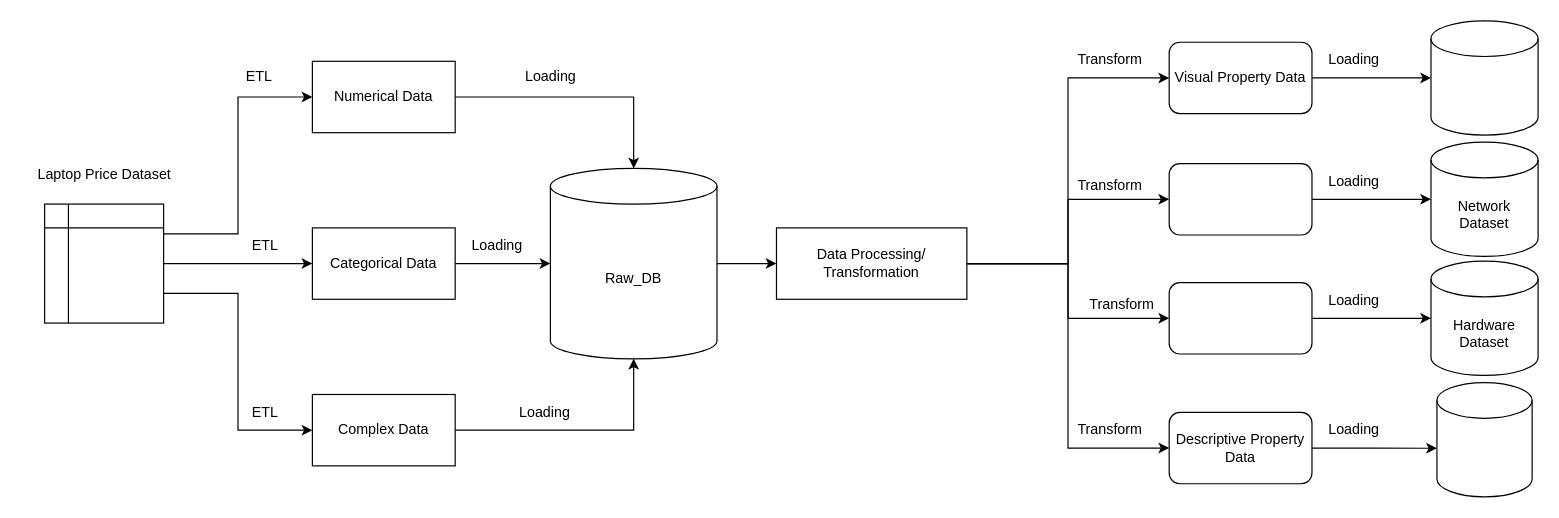
Image size: 1559x518. Some labels were removed from this diagram. Each missing label, with the centre of its shape:
Descriptive Dataset: the point at 1484,439
Hardware Property Data: the point at 1240,317
Network Property Data: the point at 1240,198
Visual Dataset: the point at 1484,77
